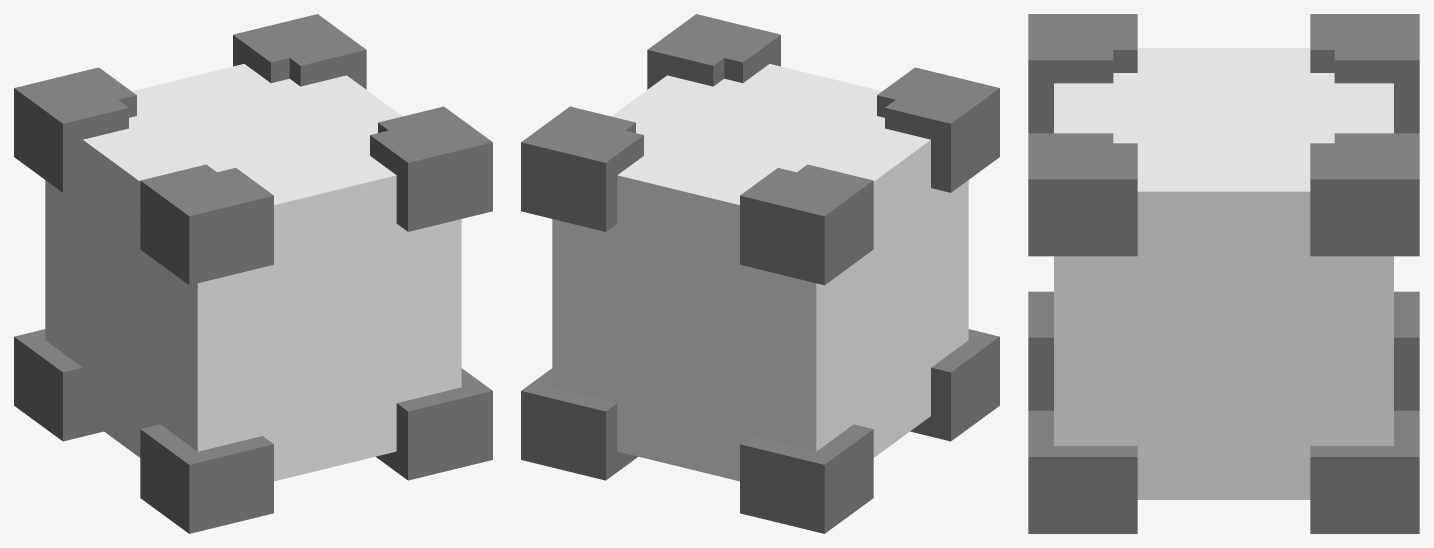
The picture shows the model from 3 angles, left to right: view 1: azimuth 30°, elevation 25°; view 2: azimuth 150°, elevation 25°; view 3: azimuth 270°, elevation 25°; orthographic projection. The views are drawn at different scales.
Parts seen in each view (by area): view 1: box_立方体.009; view 2: box_立方体.009; view 3: box_立方体.009.
Boxes of the visible parts, x1=… form: box_立方体.009: x1=14, y1=14, x2=492, y2=533; box_立方体.009: x1=521, y1=14, x2=999, y2=533; box_立方体.009: x1=1028, y1=14, x2=1419, y2=533.
Size of the model in its own units: 2.3 by 2.3 by 2.3.
1 material, 1 textured.
